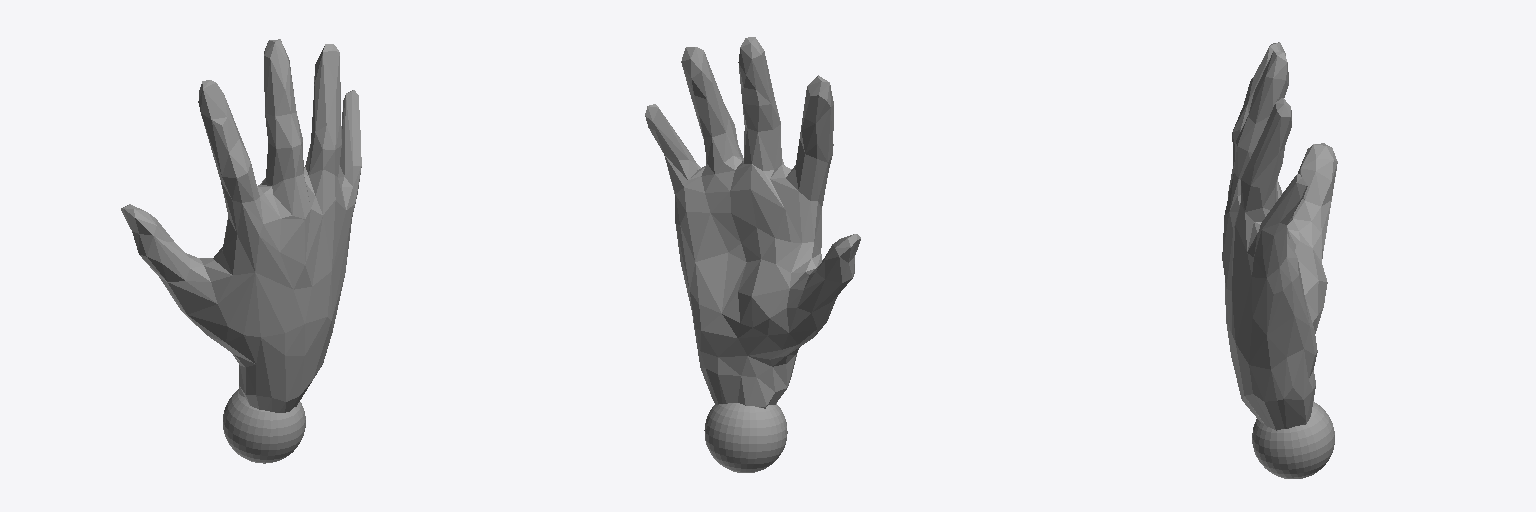
Rendered from hand.obj.
3 views of the same model, side by side, from view 1: azimuth 30°, elevation 25°; view 2: azimuth 150°, elevation 25°; view 3: azimuth 270°, elevation 25° (orthographic).
Parts seen in each view (by area): view 1: hand_hand2; view 2: hand_hand2; view 3: hand_hand2.
Part boxes in pixels (bbox=[...]): hand_hand2: bbox=[121, 39, 361, 463]; hand_hand2: bbox=[645, 37, 860, 472]; hand_hand2: bbox=[1222, 42, 1337, 478].
Size of the model in its own units: 0.604 by 1.1 by 0.2726.